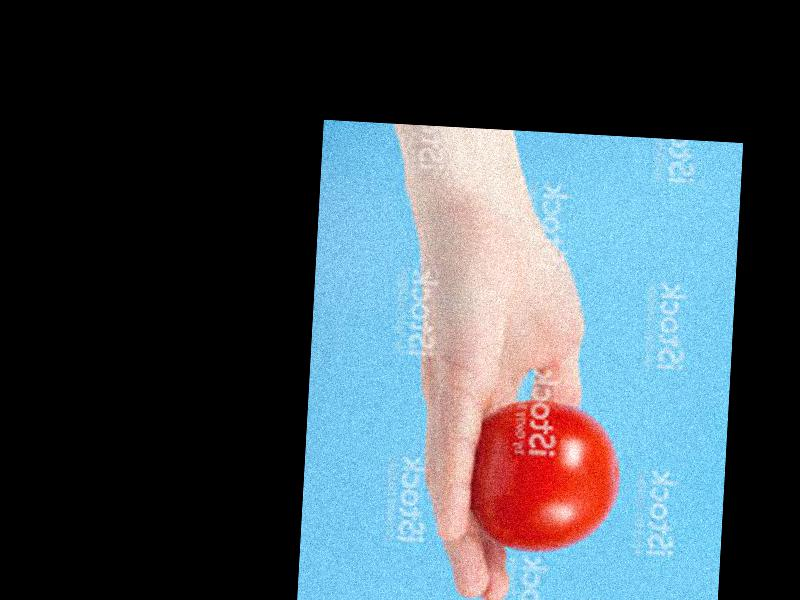Tomato: (469, 399, 620, 555)
